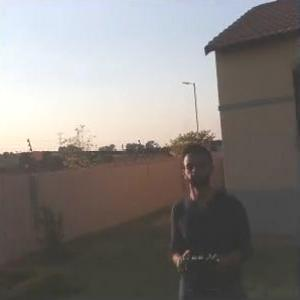follow: (161, 137, 255, 299)
